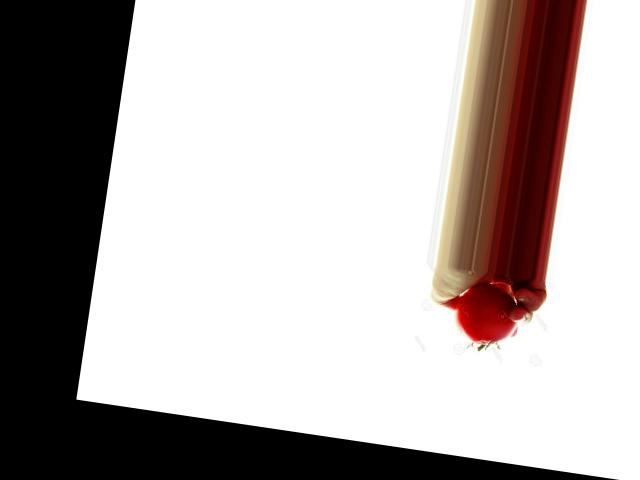tomato: (452, 280, 523, 349)
